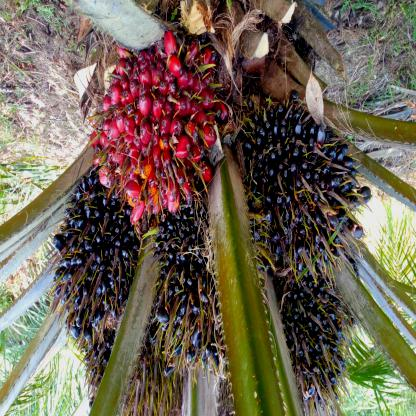1: (95, 14, 225, 232)
palm-oil: (239, 112, 368, 288), (46, 181, 134, 336), (155, 223, 228, 384), (273, 296, 351, 400), (74, 342, 177, 415)
